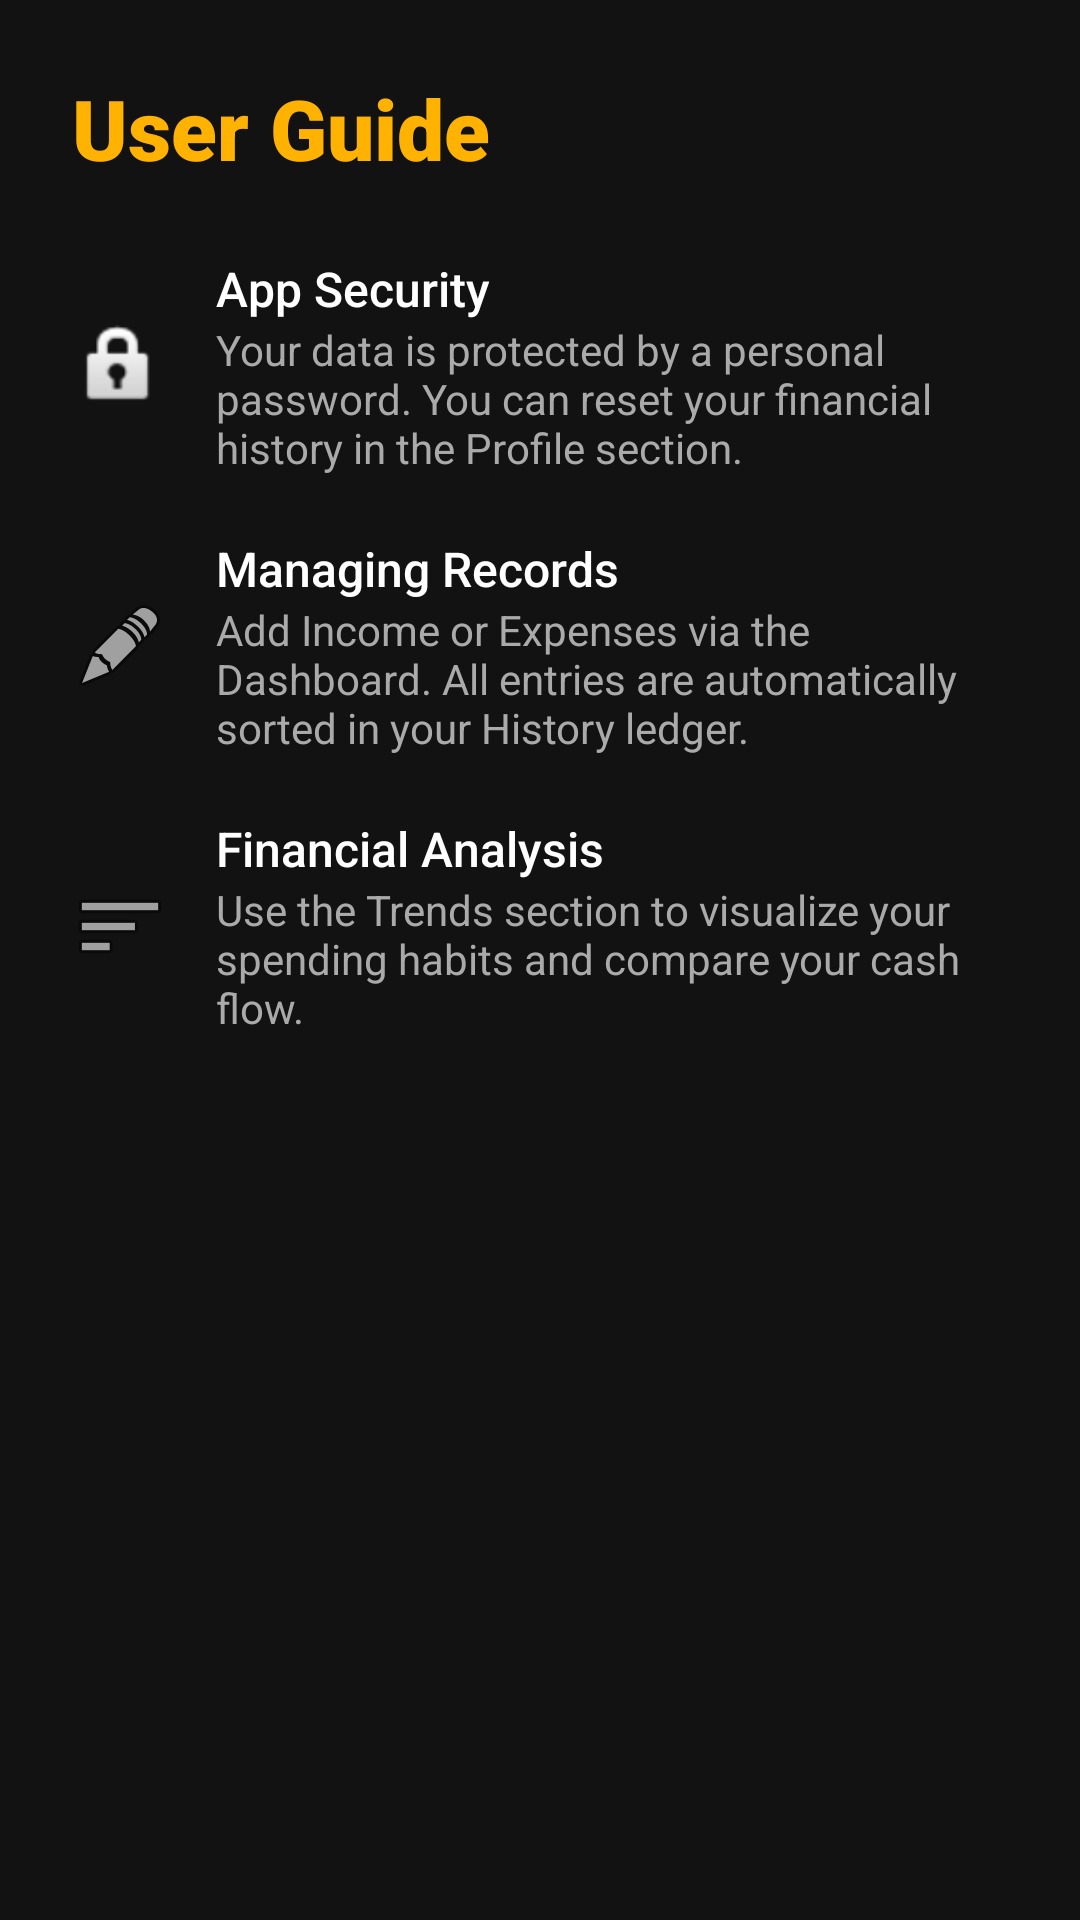

Icon bounding boxes for this 1080w x 1920h phone screenshot, format (x1, y1, x2, y2):
edit: (82, 608, 157, 683)
lock idle: (86, 326, 149, 400)
sort by size: (82, 903, 158, 950)
